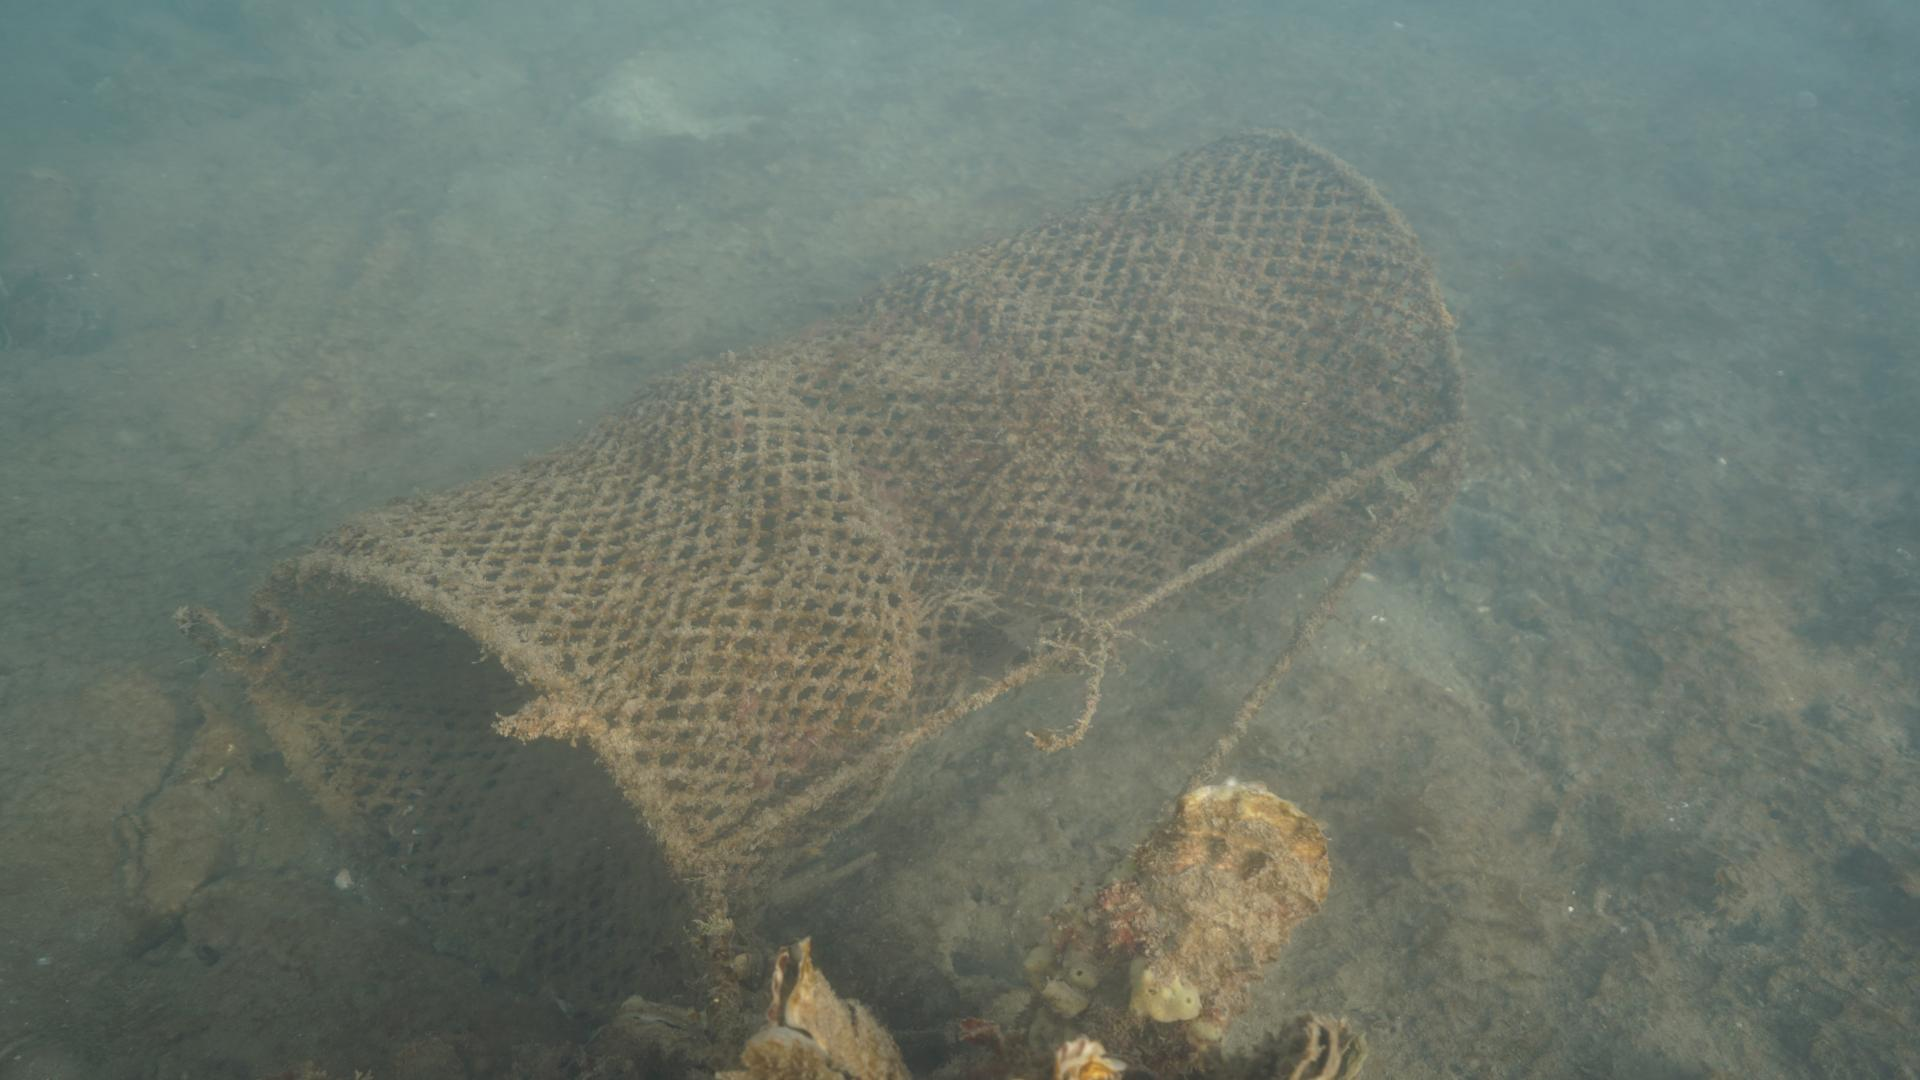rope: (1182, 431, 1455, 790)
spring fish trap: (229, 123, 1480, 1015)
